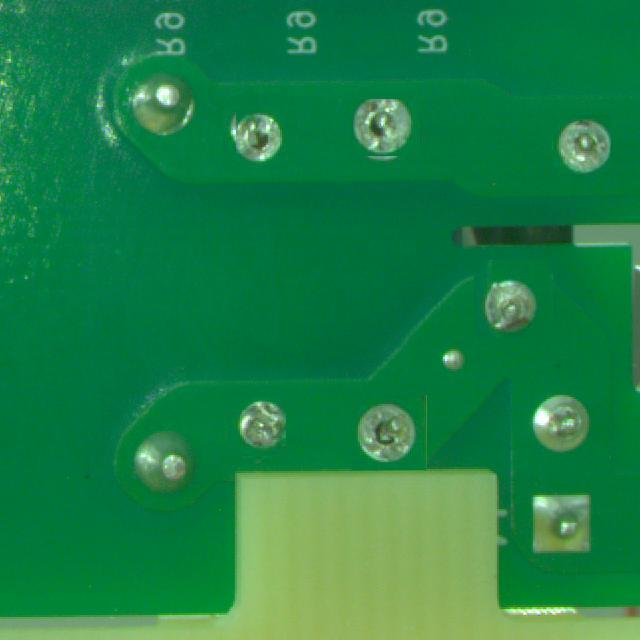lack_of_part: (475, 261, 552, 337), (352, 395, 428, 470), (354, 96, 416, 158), (230, 100, 292, 162), (228, 397, 286, 456), (553, 116, 611, 173)
